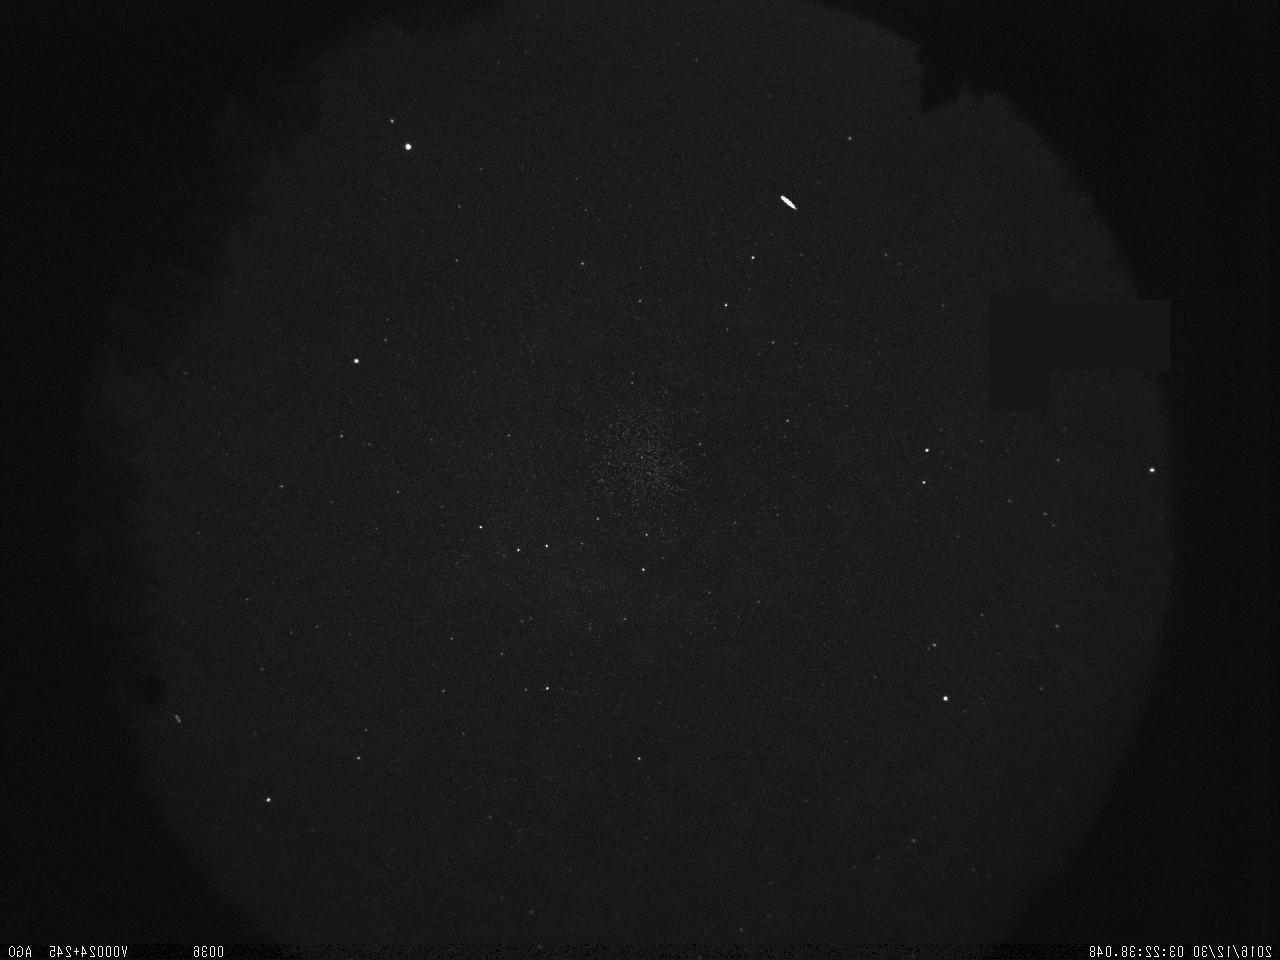meteor: (747, 169, 809, 256)
